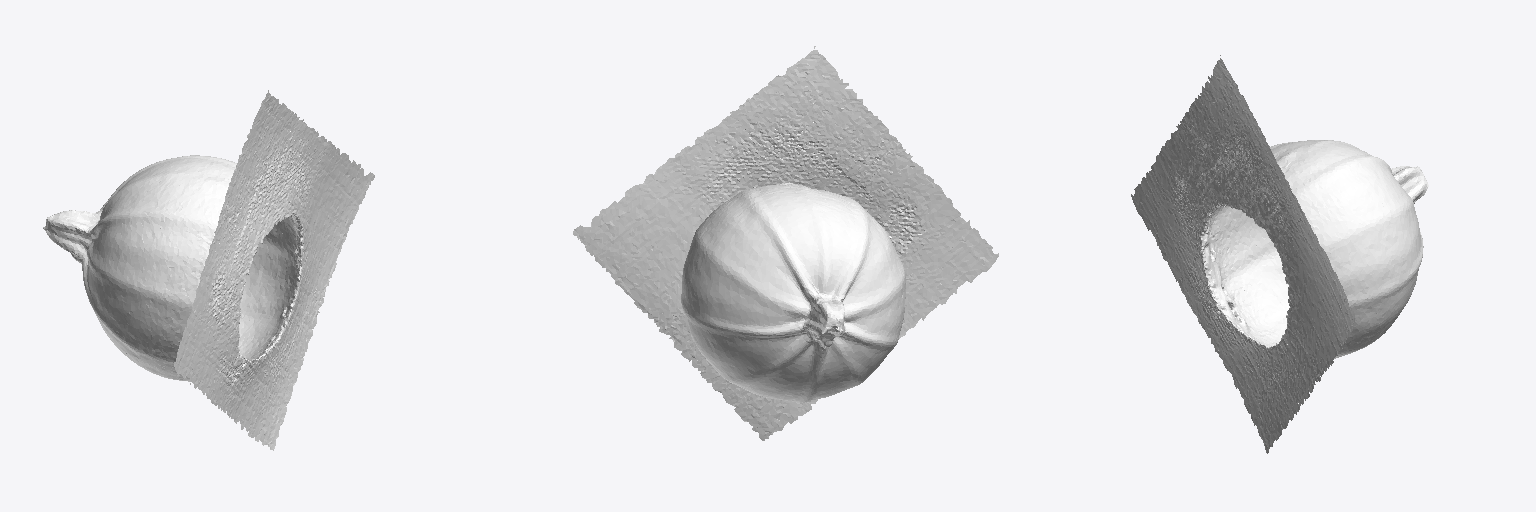
The model's file is ICCointe2.obj.
The picture shows the model from 3 angles: view 1: azimuth 30°, elevation 25°; view 2: azimuth 150°, elevation 25°; view 3: azimuth 270°, elevation 25°; orthographic projection.
Bounding box in the file's own units: 4.91 × 5.76 × 4.03.